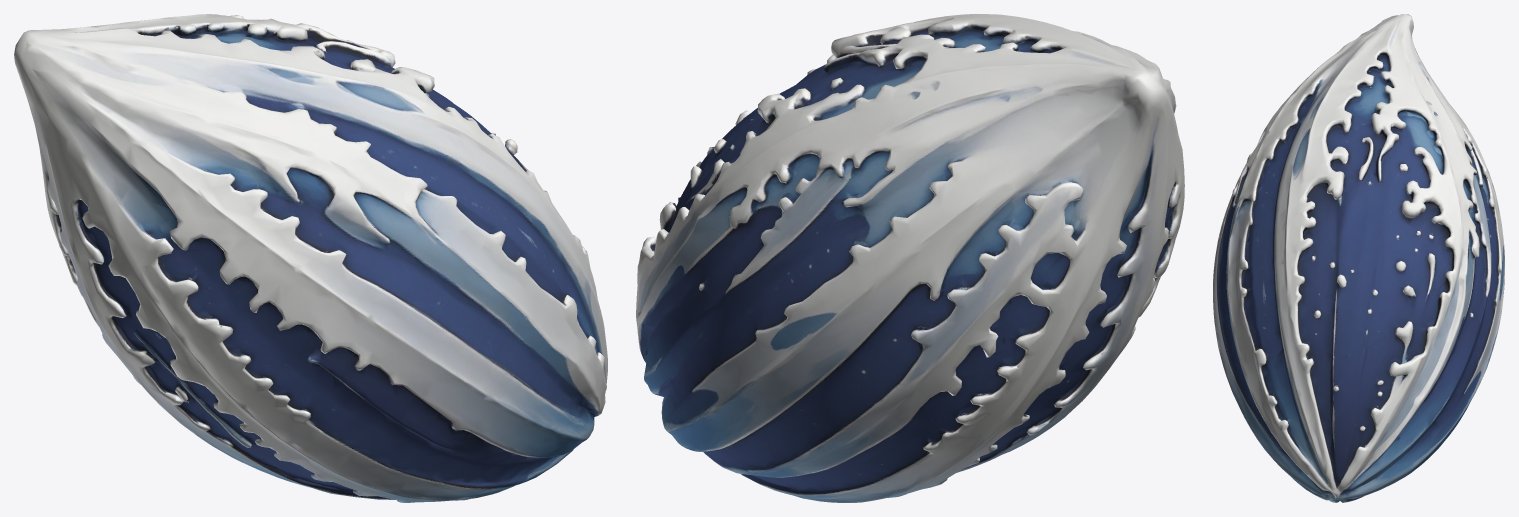
File: wave+leaf+ornament+3d+model+1k.glb
3 renders of one model, left to right at view 1: azimuth 30°, elevation 25°; view 2: azimuth 150°, elevation 25°; view 3: azimuth 270°, elevation 25°, orthographic. The views are drawn at different scales.
Parts seen in each view (by area): view 1: tripo_node_a8167a74-1290-47ba-83d8-703872bafada; view 2: tripo_node_a8167a74-1290-47ba-83d8-703872bafada; view 3: tripo_node_a8167a74-1290-47ba-83d8-703872bafada.
Boxes of the visible parts, left/top/right/bottom form: tripo_node_a8167a74-1290-47ba-83d8-703872bafada: left=14, top=14, right=607, bottom=502; tripo_node_a8167a74-1290-47ba-83d8-703872bafada: left=636, top=14, right=1184, bottom=502; tripo_node_a8167a74-1290-47ba-83d8-703872bafada: left=1213, top=14, right=1504, bottom=502.
Size of the model in its own units: 1 by 0.9087 by 0.7019.
1 material, 1 textured.
